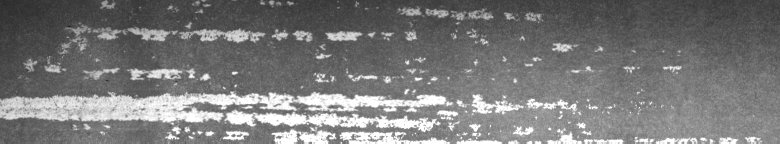kb: (4, 4, 682, 136)
